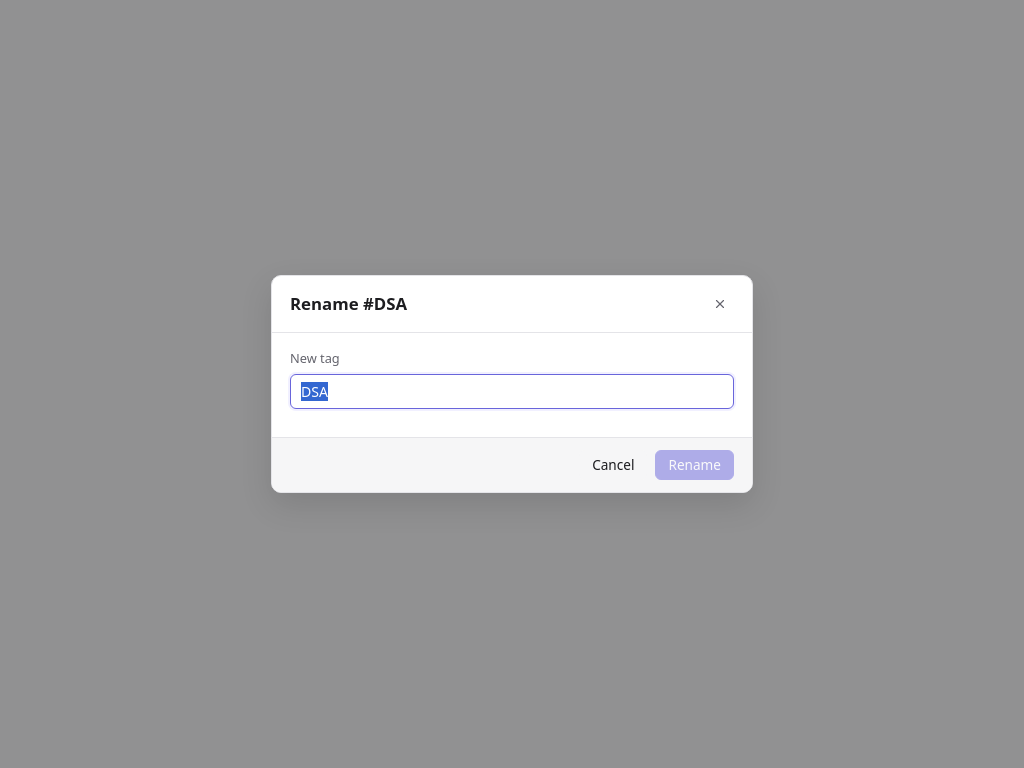
Test: RenameTagDialog › validates live and shows the error
Replace the text in the field labelled "New tag" with "bad tag" at {"x": 512, "y": 391}, box [290,374,734,409]
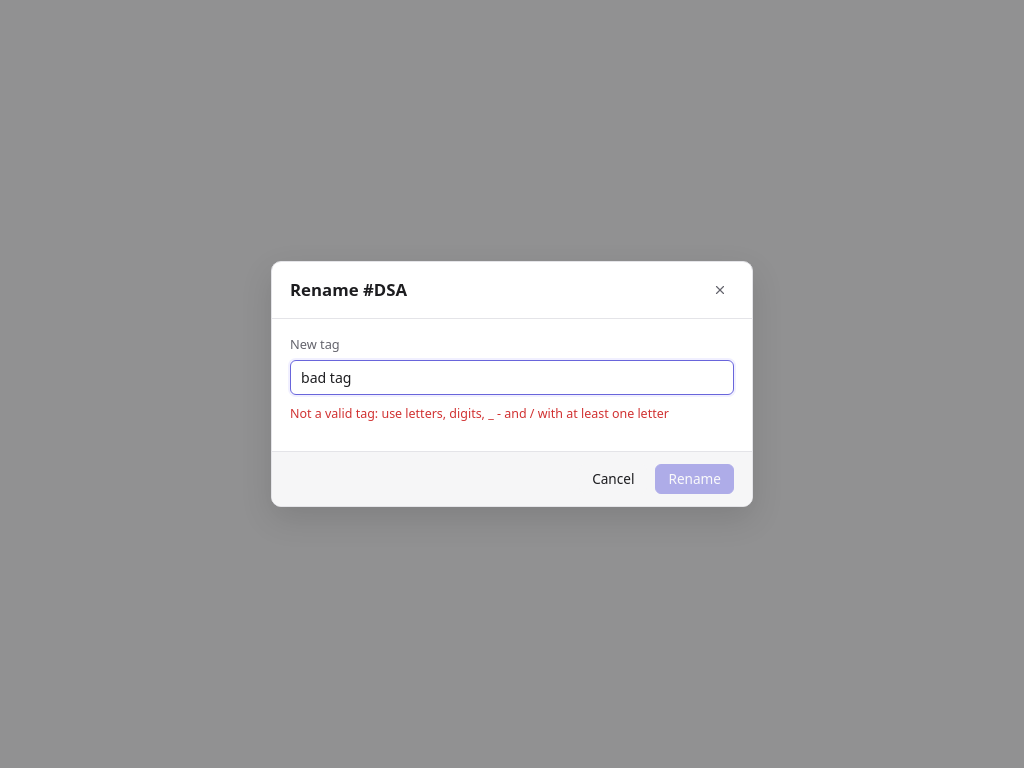
Expected: the button "Rename" is disabled, [656,464,734,494]
Result: the text "Not a valid tag" is shown at [290,405,669,422]
